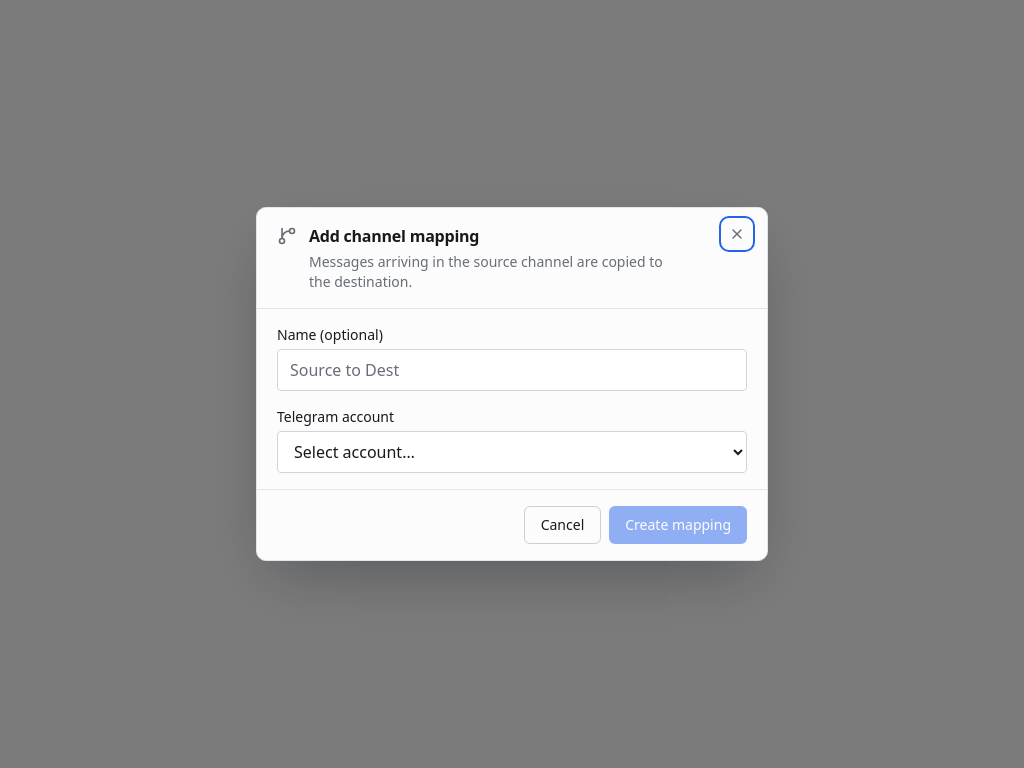
Test: AddMappingDialog › shows validation when submitting without route
Select "Acc (user)" in the dropdown labelled "Telegram account" at (512, 452), box [277,431,747,473]
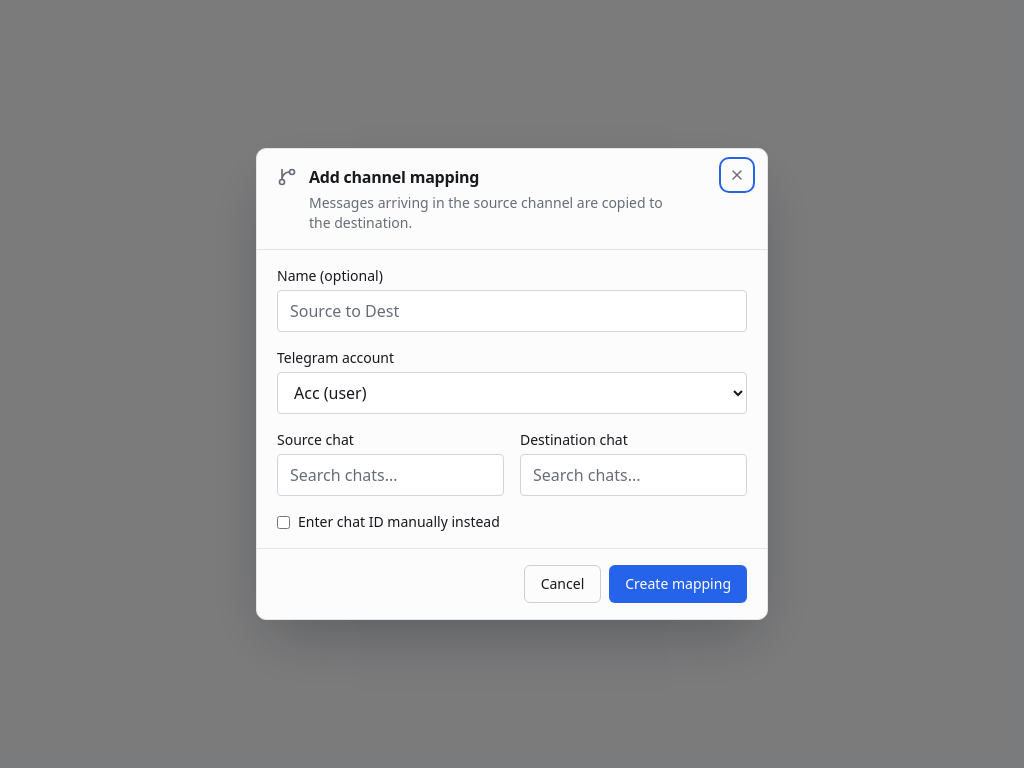
Click the button "Create mapping" at (678, 584), box [609,565,747,603]
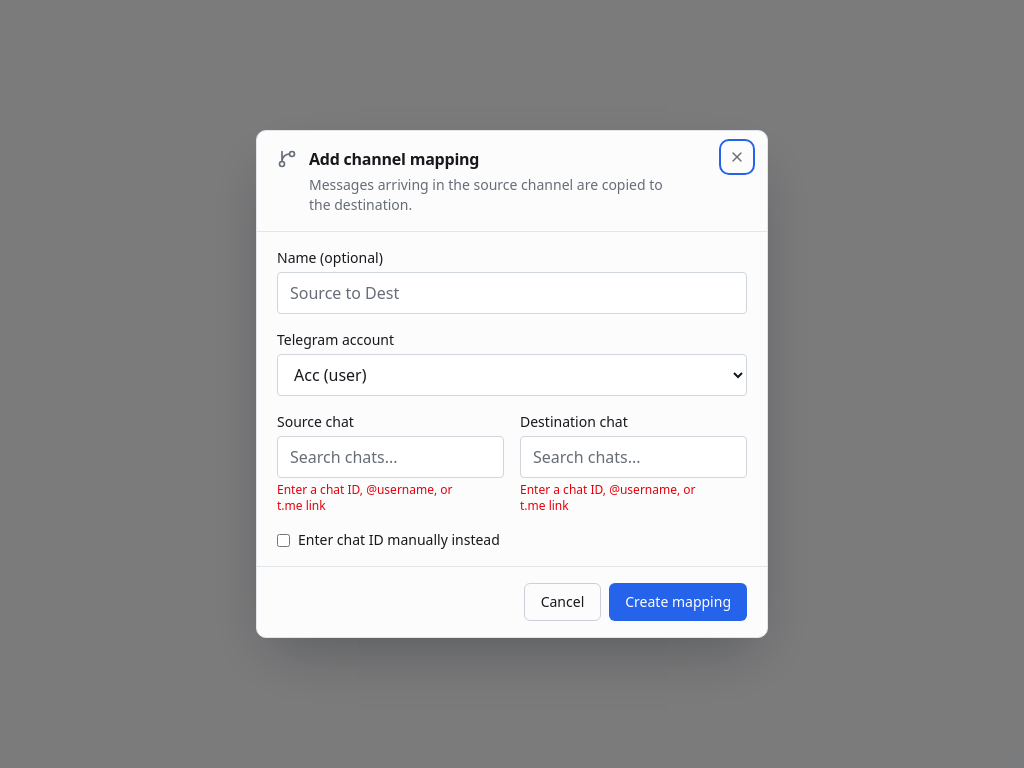
Now the text "Enter a chat ID, @username, or t.me link" below "Source chat" is shown, box [277,481,452,514]
